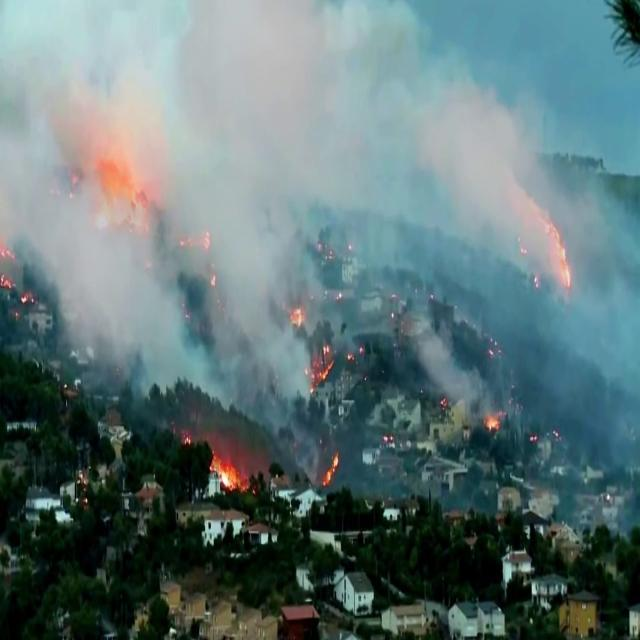Fire: (207, 446, 250, 502)
Smoke: (0, 0, 344, 408), (491, 104, 640, 492)
